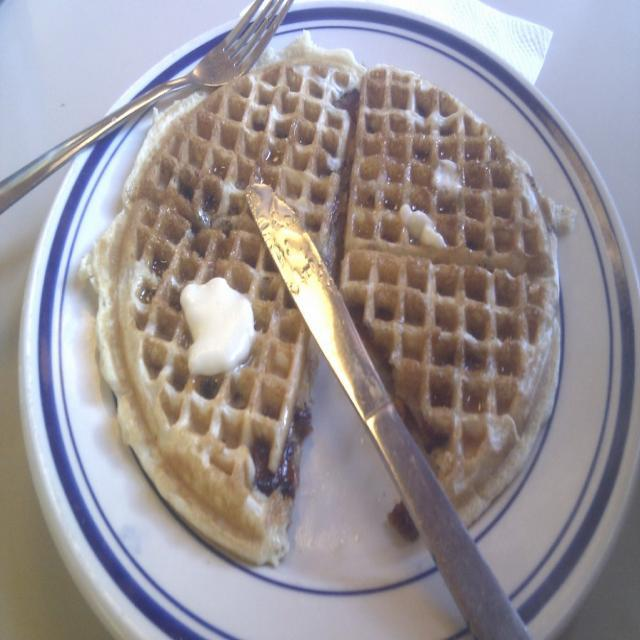Waffle: (78, 30, 576, 564)
